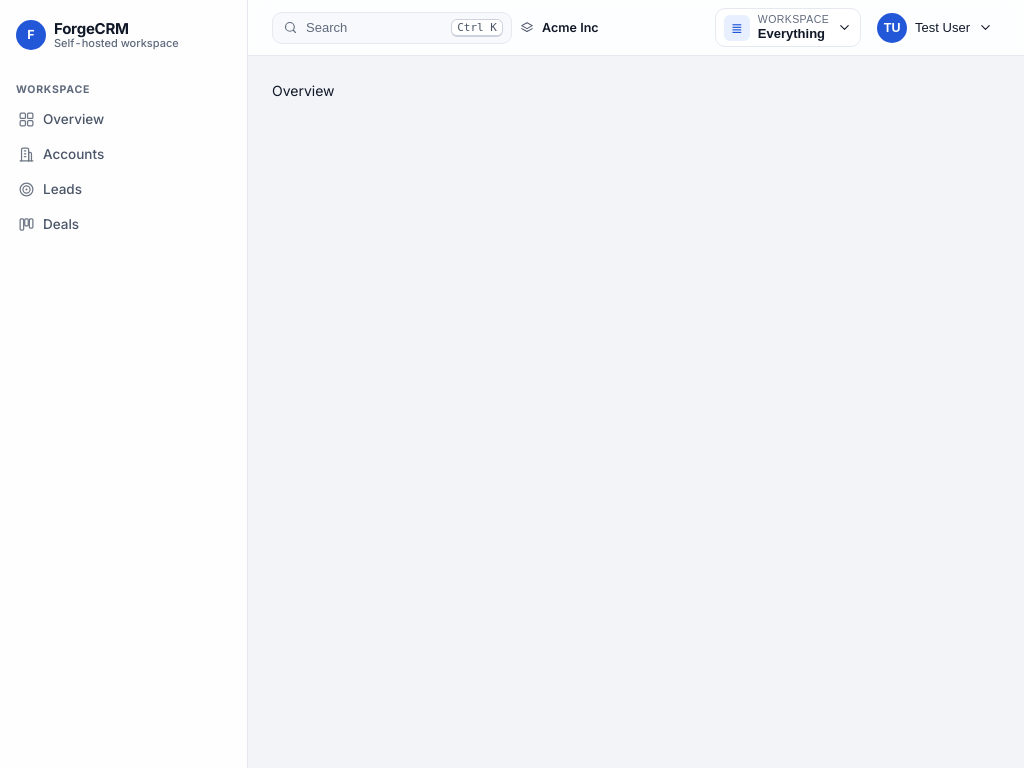
it: workspaces › switches to a workspace, reorders and persists the choice
Click the button with aria-label "switch workspace" at (788, 28), box x1=715 y1=8 x2=861 y2=47
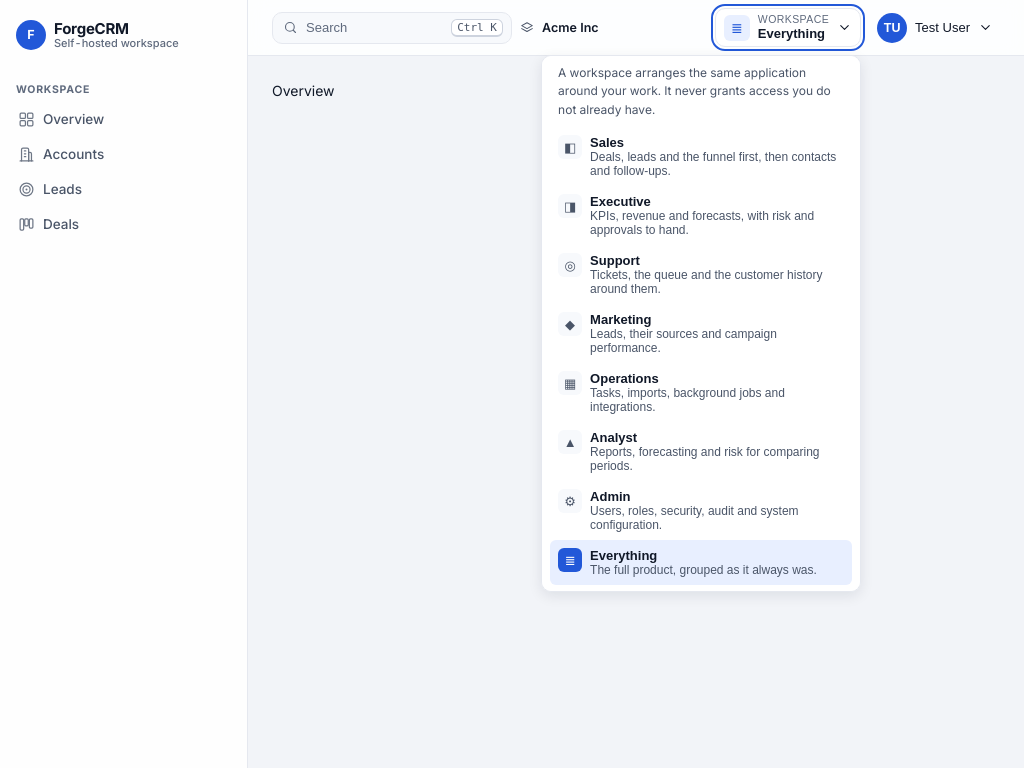
Click the button "Sales" at (701, 157), box x1=550 y1=127 x2=852 y2=186
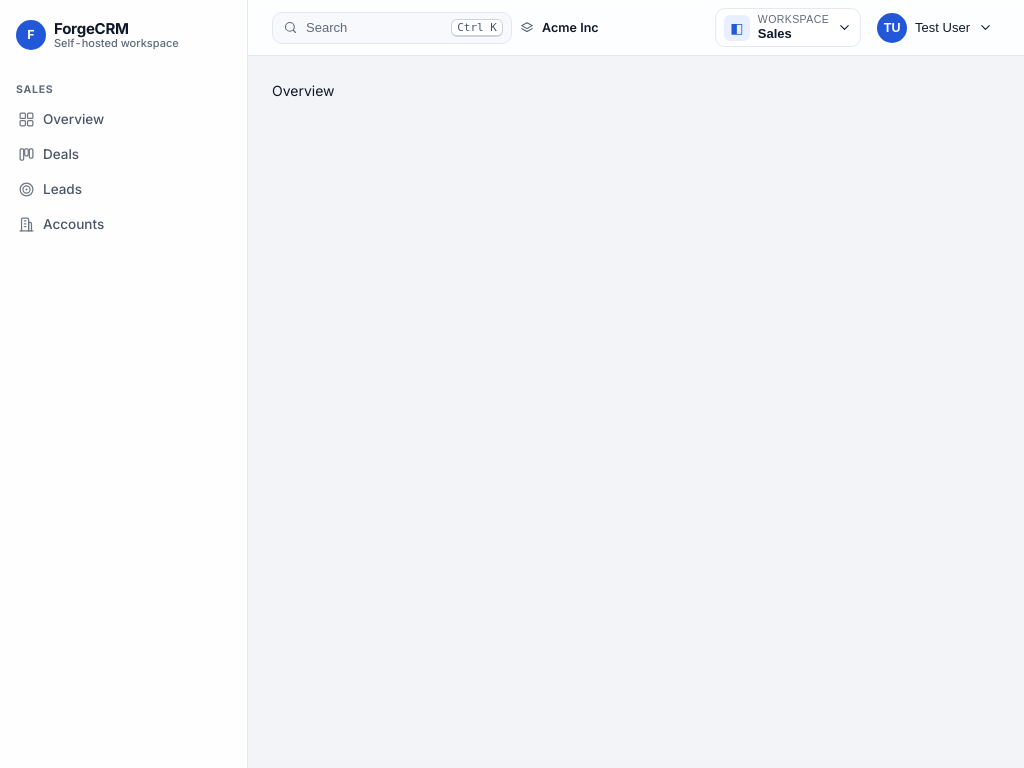
Now the text "Sales" below "Self-hosted workspace" is shown, box x1=16 y1=83 x2=53 y2=96
